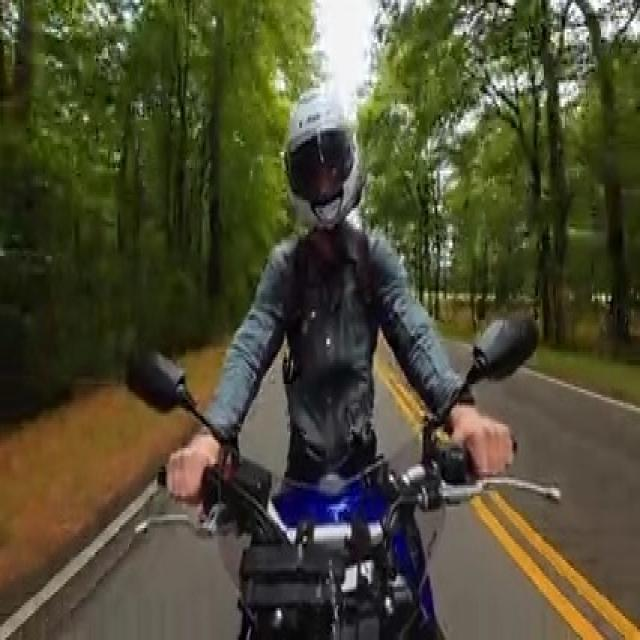Helmet_Wearer: (264, 83, 374, 218)
Person: (171, 75, 512, 494)
